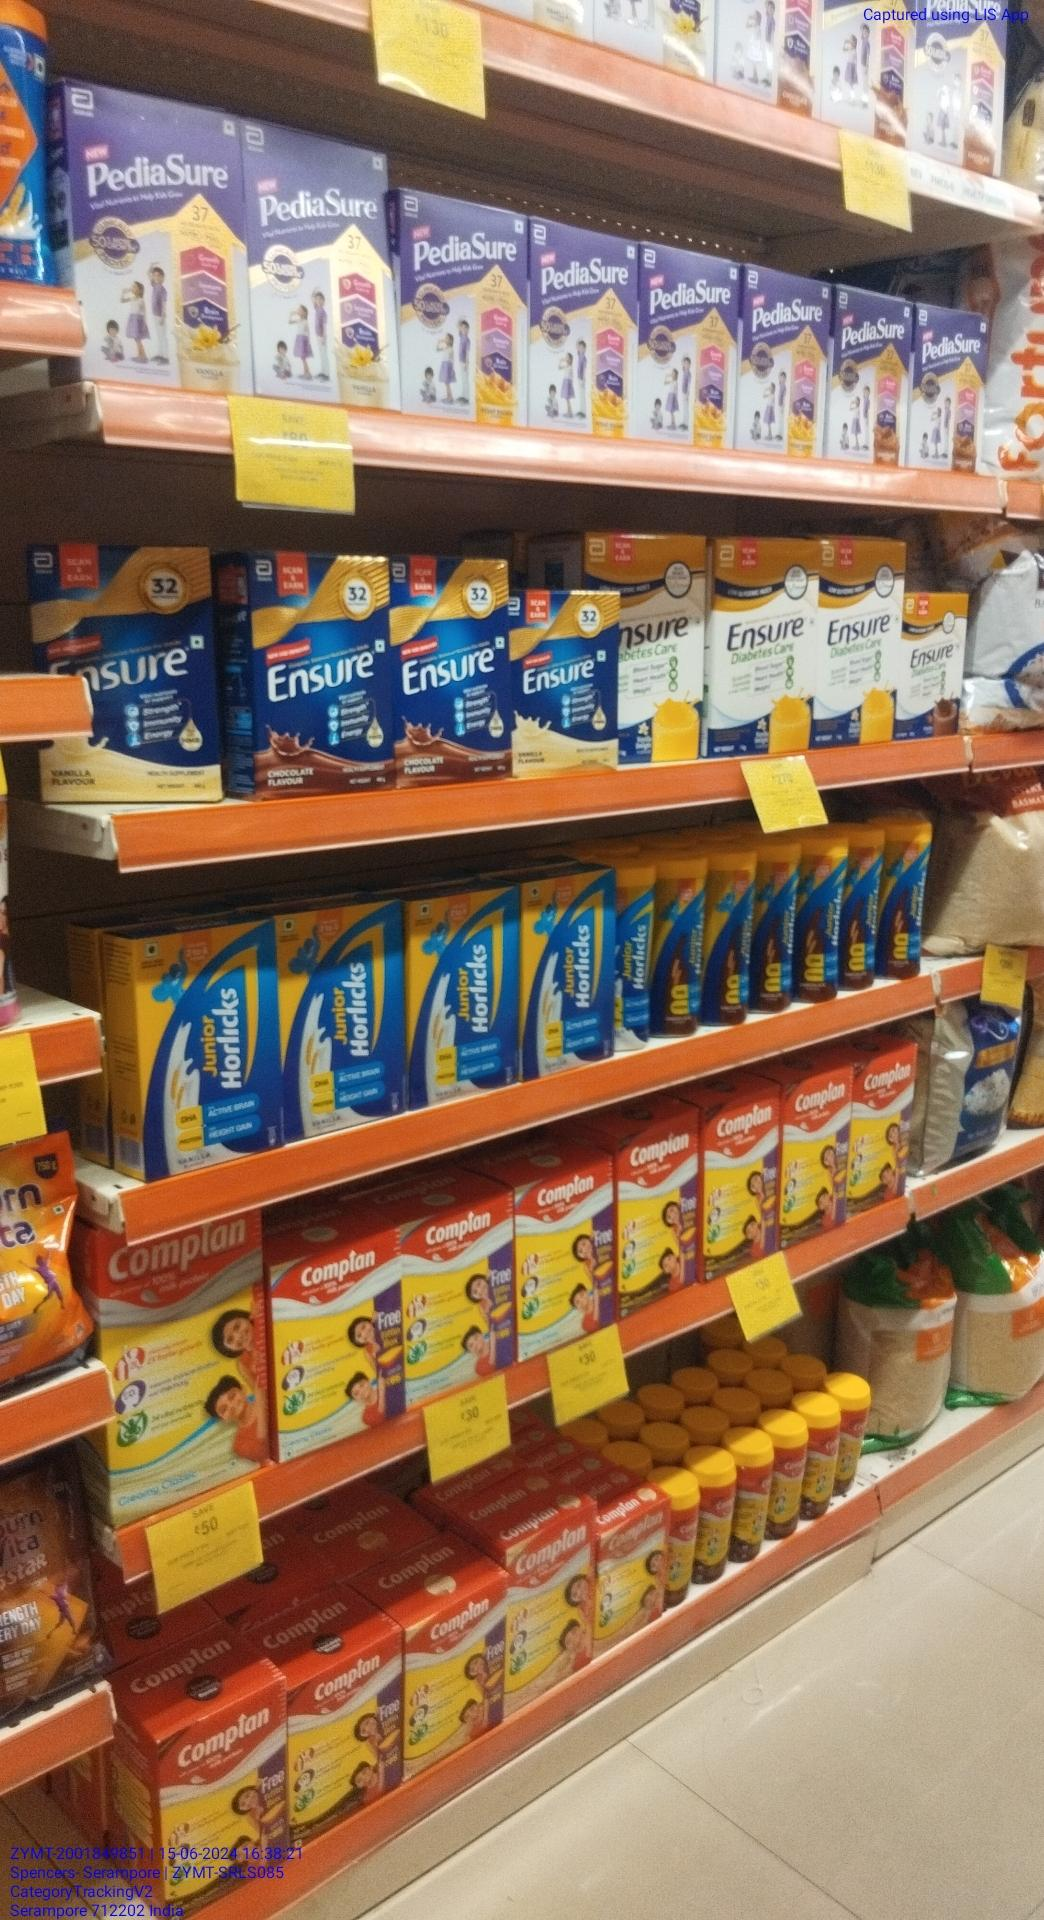COMPLAN_CHOCOLATE_500_GMS_PACK: (163, 1703, 283, 1879), (293, 1671, 401, 1793), (622, 1142, 696, 1299), (703, 1110, 778, 1262), (852, 1062, 915, 1216), (787, 1080, 846, 1227)
COMPLAN_CREAMY_CLASSIC_500_G_PACK: (275, 1258, 402, 1434), (408, 1220, 513, 1383), (518, 1180, 616, 1348)
COMPLAN_KESAR_BADAM_200_GMS_PACK: (597, 1529, 665, 1631)
COMPLAN_KESAR_BADAM_500_GMS_PACK: (408, 1617, 504, 1748), (512, 1540, 591, 1675)
HORLICKS_JUNIOR_VANILLA_500_GM_JAR: (615, 871, 653, 1053)
